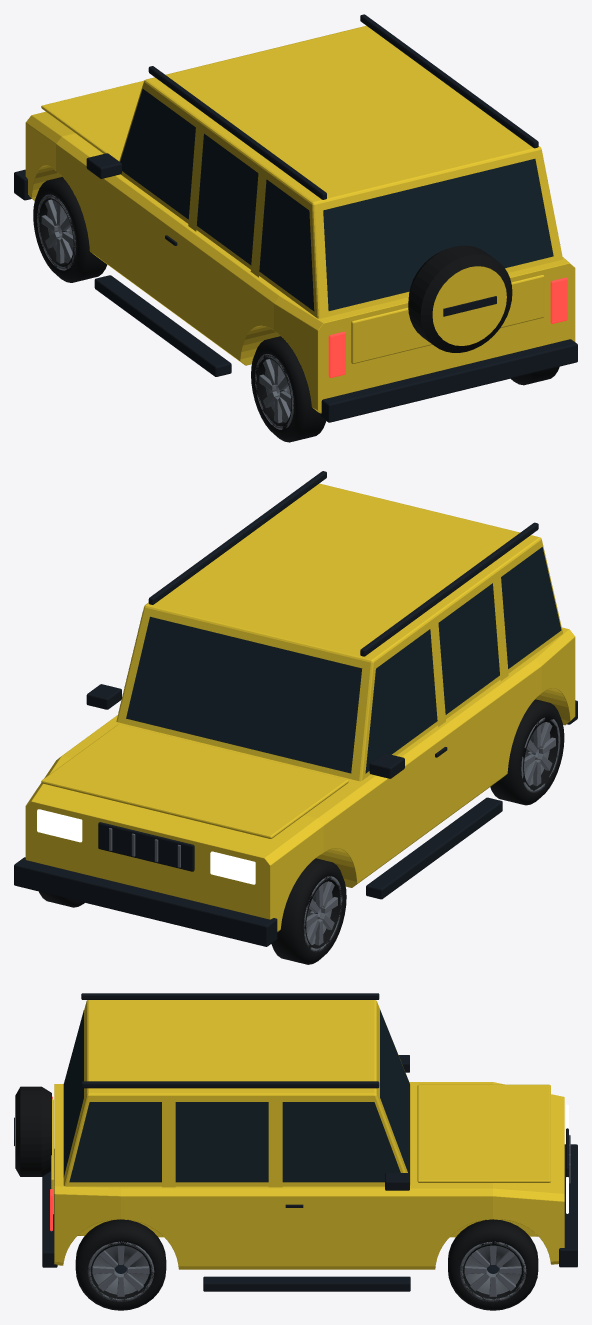
Rendered from ns-breakwater-01.glb.
3 renders of one model, top to bottom at view 1: azimuth 30°, elevation 25°; view 2: azimuth 150°, elevation 25°; view 3: azimuth 270°, elevation 25°, orthographic. The views are drawn at different scales.
Parts seen in each view (by area): view 1: utility-cabin, coachwork, rear-glass, side-glass-left, rear-bumper, tailgate, tailgate-spare, spare-cover, flat-bonnet, tire-rear-left, tire-front-left, step-left (+9 smaller); view 2: utility-cabin, coachwork, windshield, flat-bonnet, side-glass-left, front-bumper, tire-front-left, tire-rear-left, step-left, utility-grille, roof-rail-left, roof-rail-right (+8 smaller); view 3: coachwork, utility-cabin, side-glass-right, flat-bonnet, tire-rear-right, tire-front-right, step-right, tailgate-spare, windshield, roof-rail-right, roof-rail-left, rear-glass (+7 smaller).
Part boxes in pixels (box(x1,y1,x2,y2)): utility-cabin: box(119, 25, 562, 318); coachwork: box(25, 111, 575, 413); rear-glass: box(323, 159, 553, 310); side-glass-left: box(120, 89, 314, 311); rear-bumper: box(320, 339, 577, 422); tailgate: box(351, 274, 544, 363); tailgate-spare: box(408, 245, 512, 352); spare-cover: box(432, 266, 506, 345); flat-bonnet: box(41, 80, 143, 160); tire-rear-left: box(251, 336, 326, 442); tire-front-left: box(33, 177, 107, 282); step-left: box(94, 275, 231, 376); utility-cabin: box(116, 483, 562, 781); coachwork: box(25, 627, 575, 931); windshield: box(126, 616, 362, 773); flat-bonnet: box(41, 724, 348, 838); side-glass-left: box(365, 547, 561, 773); front-bumper: box(14, 857, 277, 946); tire-front-left: box(271, 858, 346, 964); tire-rear-left: box(490, 699, 564, 805); step-left: box(366, 797, 502, 899); utility-grille: box(98, 822, 194, 871); roof-rail-left: box(360, 522, 538, 656); roof-rail-right: box(148, 471, 326, 604); coachwork: box(54, 1082, 564, 1269); utility-cabin: box(63, 1000, 410, 1186); side-glass-right: box(69, 1102, 400, 1182); flat-bonnet: box(417, 1084, 550, 1182); tire-rear-right: box(75, 1219, 166, 1310); tire-front-right: box(448, 1219, 538, 1310); step-right: box(203, 1276, 410, 1291); tailgate-spare: box(15, 1086, 51, 1176); windshield: box(380, 1010, 409, 1172); roof-rail-right: box(81, 1081, 379, 1088); roof-rail-left: box(81, 993, 379, 999); rear-glass: box(63, 1010, 83, 1177).
Size of the model in its own units: 2.39 by 1.93 by 4.49.
